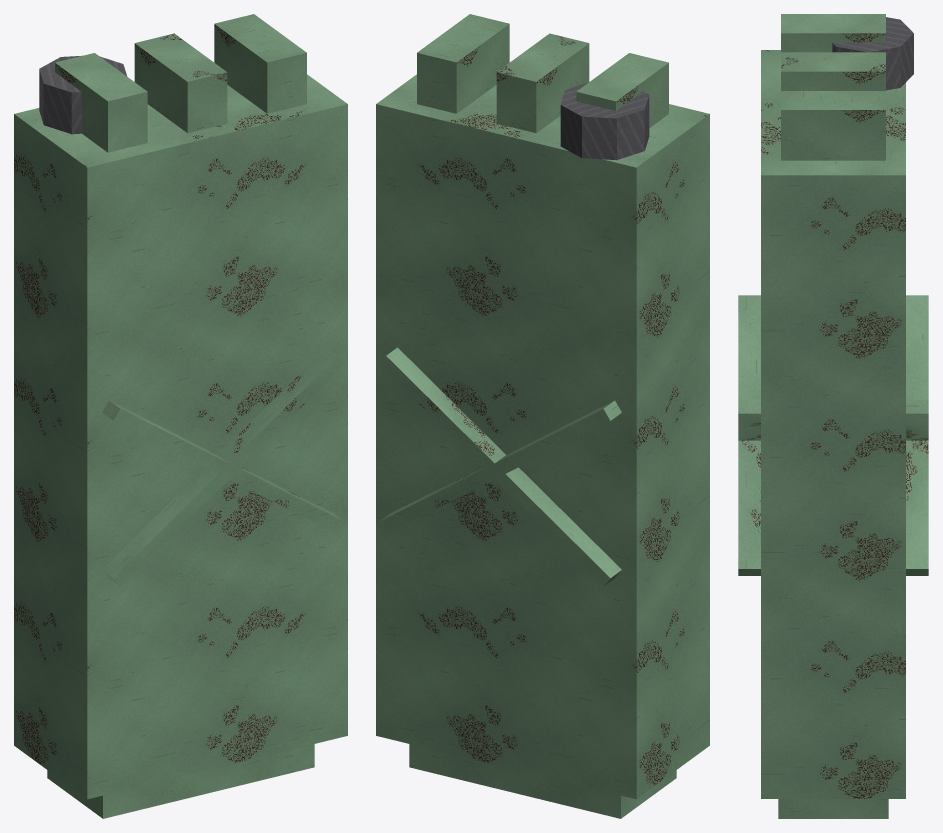
File: jerrycan.glb
3 renders of one model, left to right at view 1: azimuth 30°, elevation 25°; view 2: azimuth 150°, elevation 25°; view 3: azimuth 270°, elevation 25°, orthographic.
Visible parts, largest first — view 1: NC_jerrycan; view 2: NC_jerrycan; view 3: NC_jerrycan.
Boxes of the visible parts, box(x1,y1,x2,y2) form: NC_jerrycan: box(14, 14, 347, 818); NC_jerrycan: box(376, 14, 709, 818); NC_jerrycan: box(738, 14, 928, 818).
Size of the model in its own units: 0.17 by 0.446 by 0.109.
2 materials, 2 textured.
